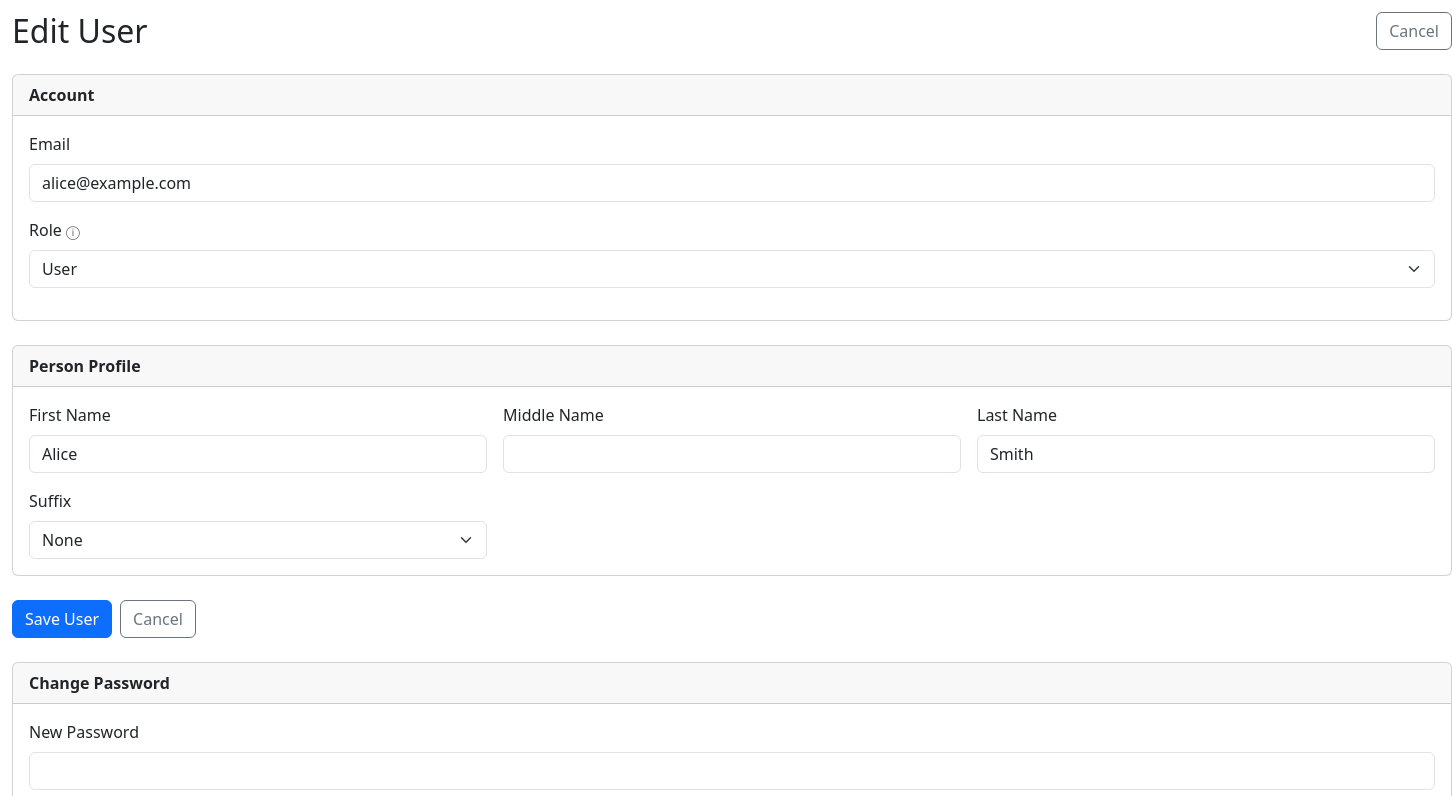
UserFormPage › Edit mode › shows API error on failed save
Click the button "Save User".
click(62, 619)  # box top-left (12, 600), bottom-right (112, 638)
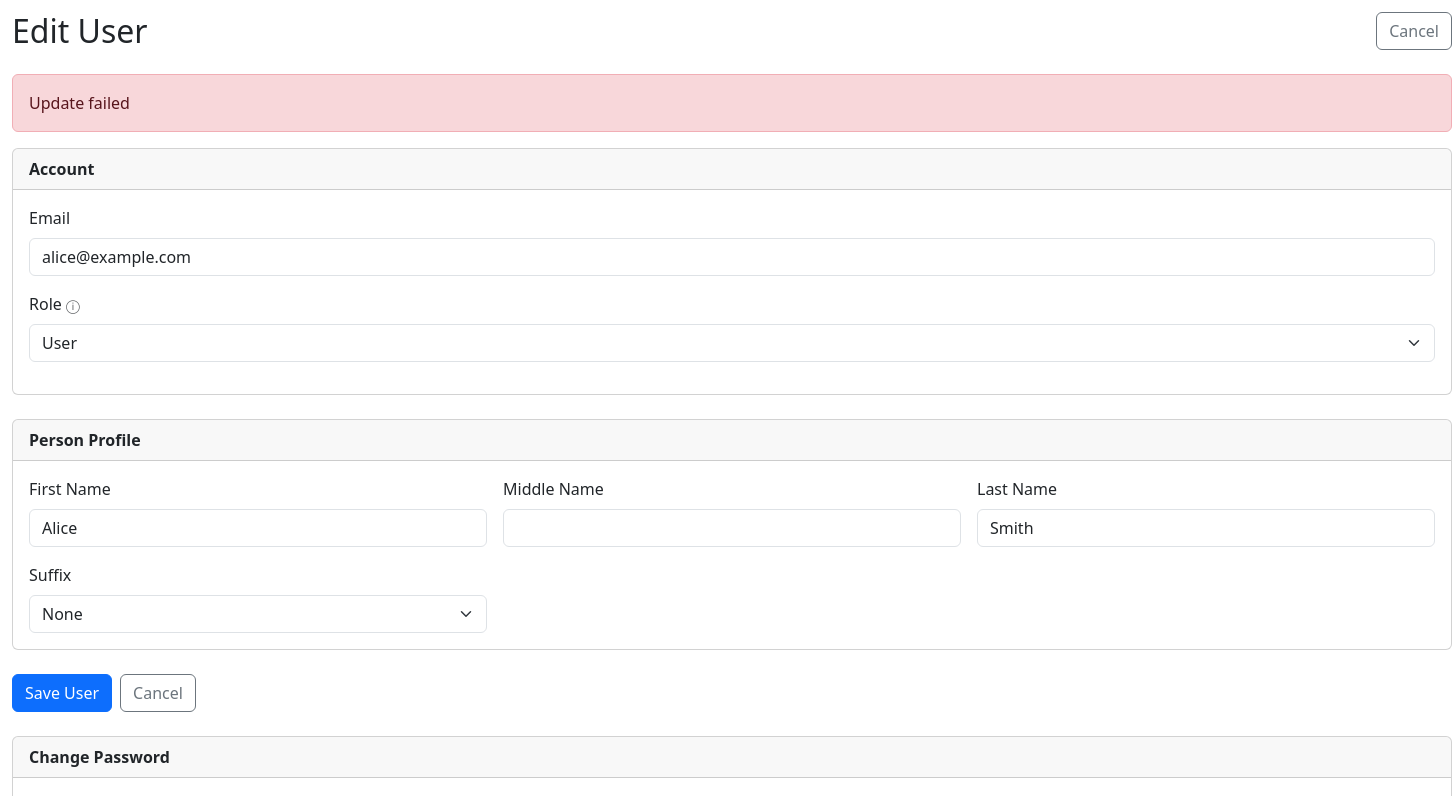
Expected: the text "Update failed" is shown, top-left (12, 74), bottom-right (1451, 132)
